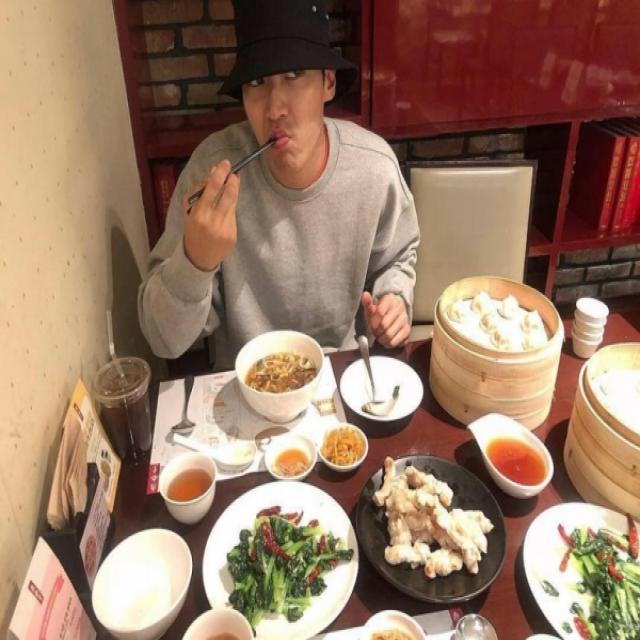eating-person: (131, 0, 434, 445)
